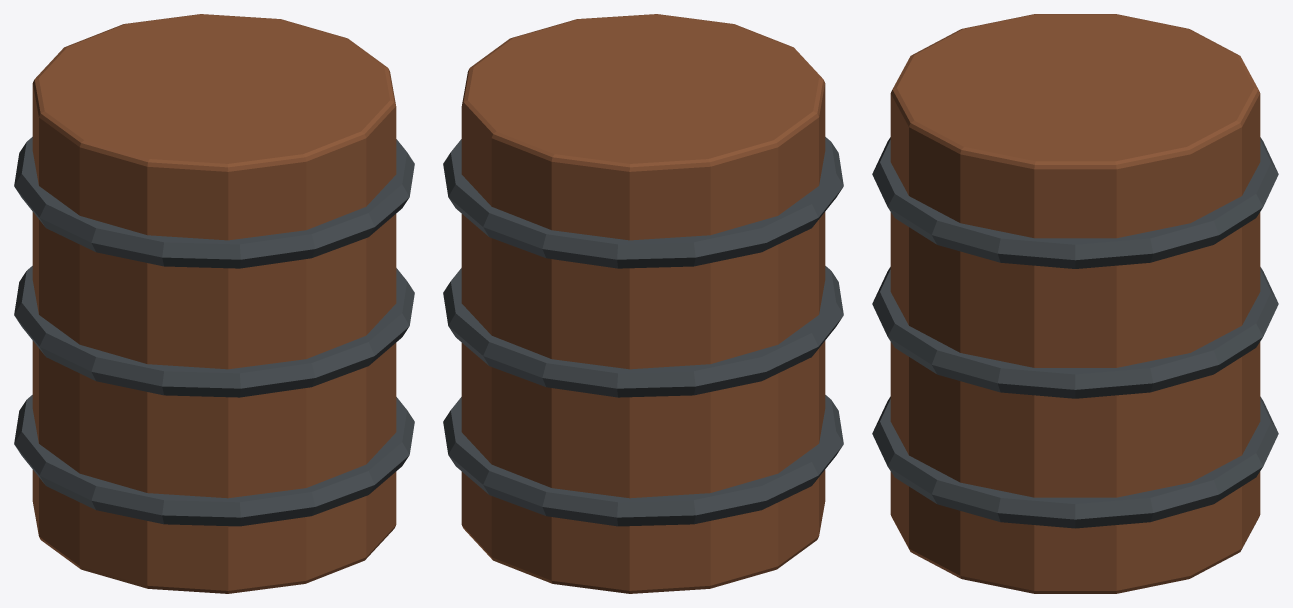
The model's file is barrel.glb.
3 renders of one model, left to right at view 1: azimuth 30°, elevation 25°; view 2: azimuth 150°, elevation 25°; view 3: azimuth 270°, elevation 25°, orthographic.
Visible parts, largest first — view 1: barrel; view 2: barrel; view 3: barrel.
Boxes of the visible parts, <box> form: barrel: <box>14,14,414,593</box>; barrel: <box>443,14,843,593</box>; barrel: <box>872,14,1278,593</box>.
Bounding box in the file's own units: 0.682 × 0.8 × 0.682.
